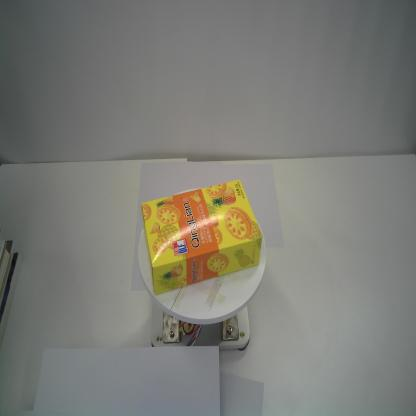Dessert: (140, 178, 264, 295)
